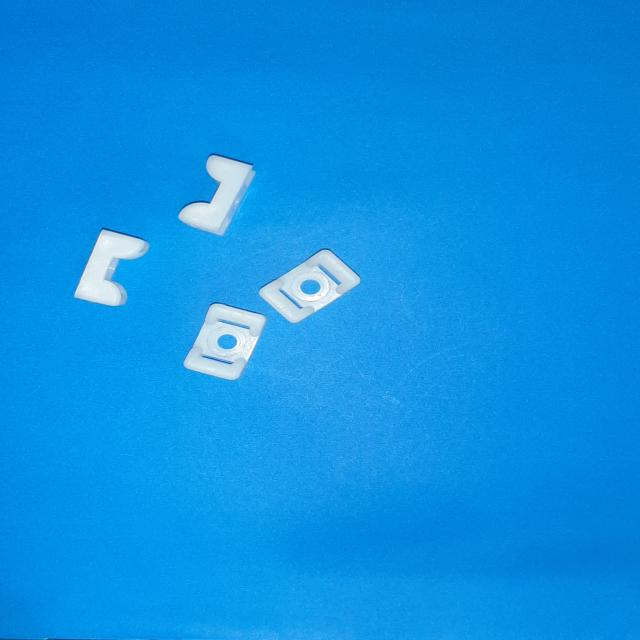false_2: (178, 155, 255, 235), (75, 229, 150, 306)
true: (260, 250, 360, 322), (183, 304, 267, 380)
true_center: (217, 334, 238, 350), (300, 280, 320, 295)
